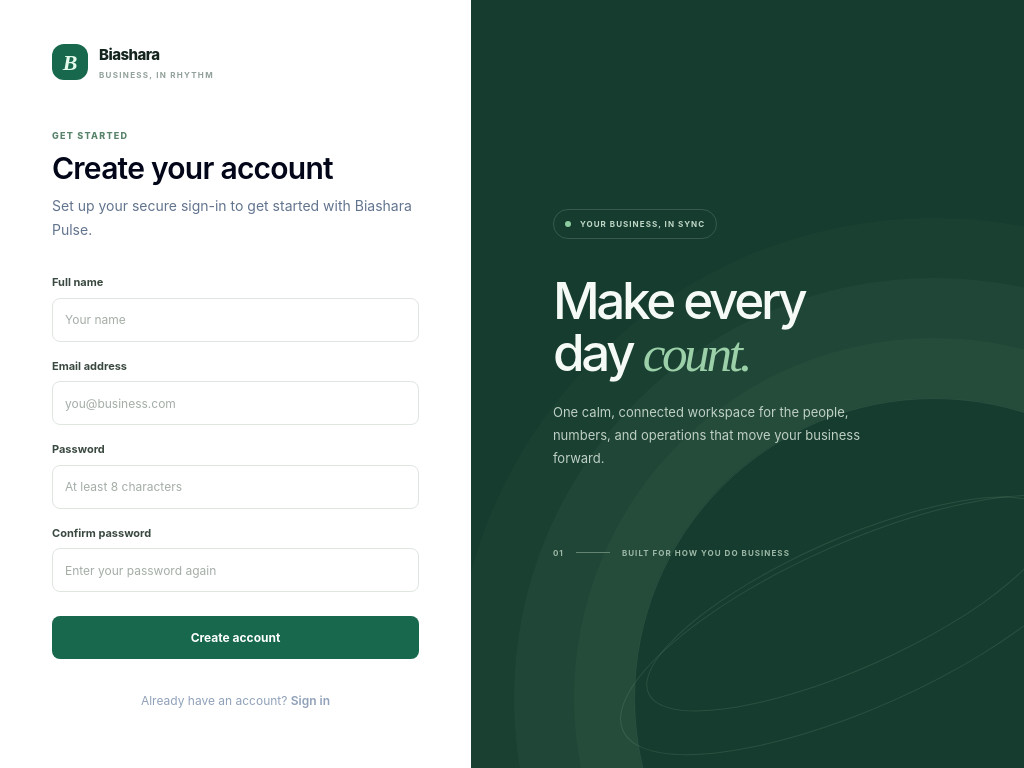
it: application shell › registers an account and opens the protected workspace
This screenshot has width=1024, height=768.
Type "Nia Kamau" into the field labelled "Full name" at (236, 320), box [52,298,419,342]
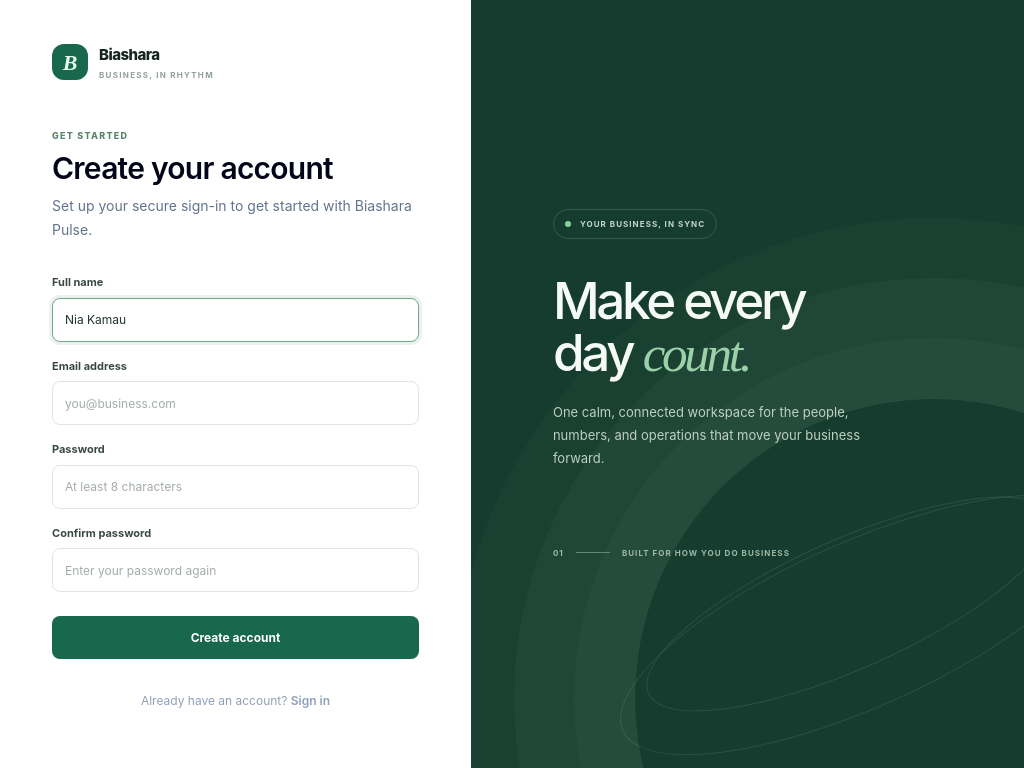
Type "new-owner@example.test" into the field labelled "Email address" at (236, 403), box [52,381,419,425]
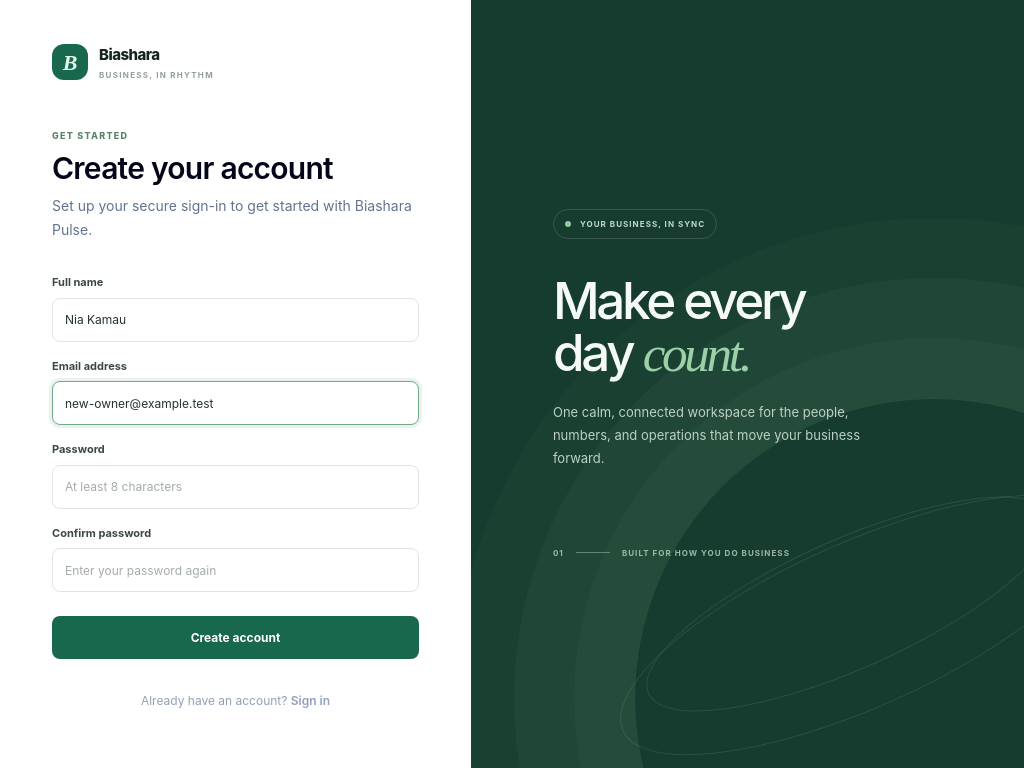
Type "secure-password-123" into the password field labelled "Password" at (236, 486), box [52,464,419,508]
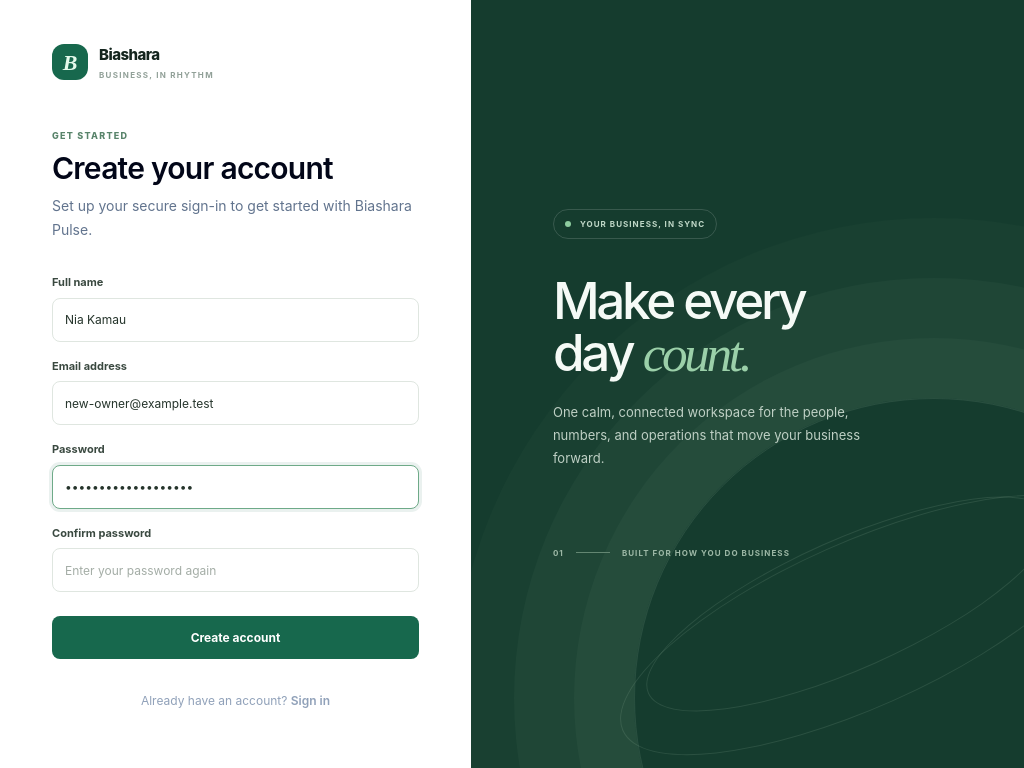
Type "secure-password-123" into the password field labelled "Confirm password" at (236, 570), box [52,548,419,592]
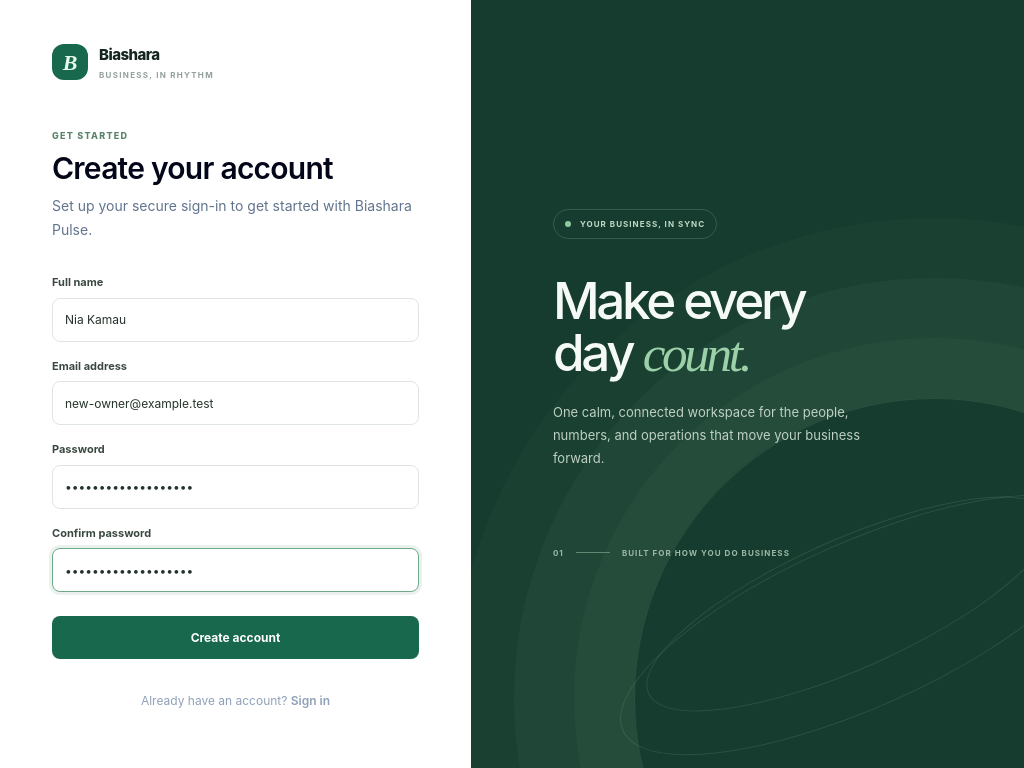
Click the button "Create account" at (236, 638), box [52,616,419,659]
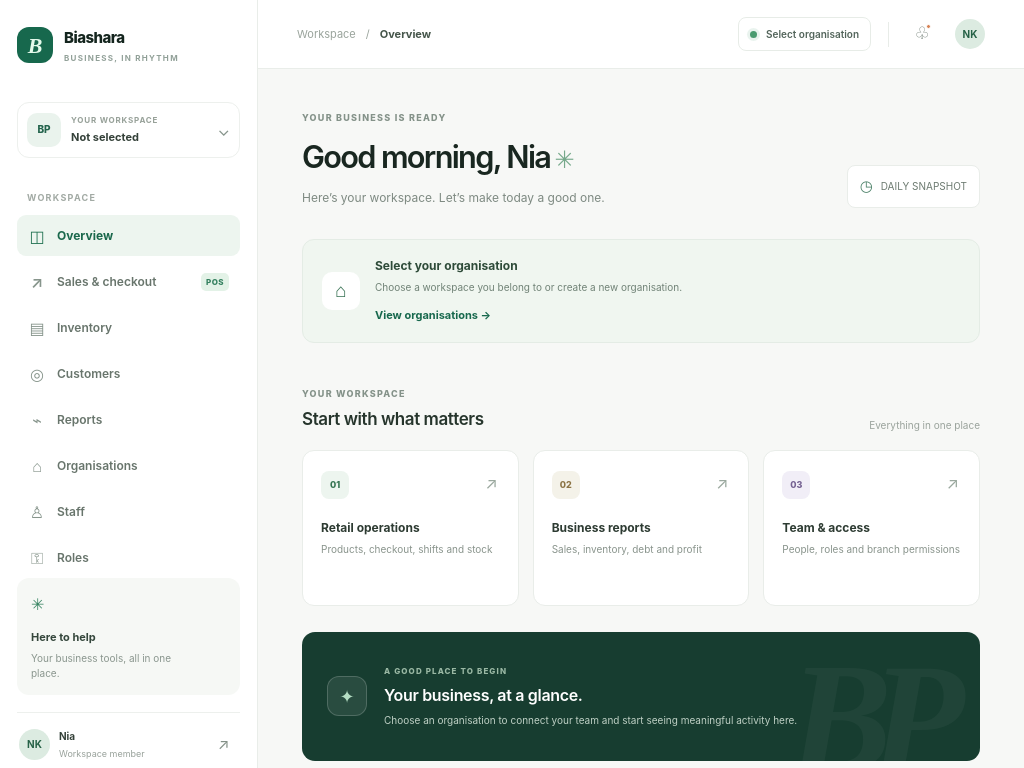
Check: the heading "Good morning, Nia ✳" is shown, box [302,134,605,180]
